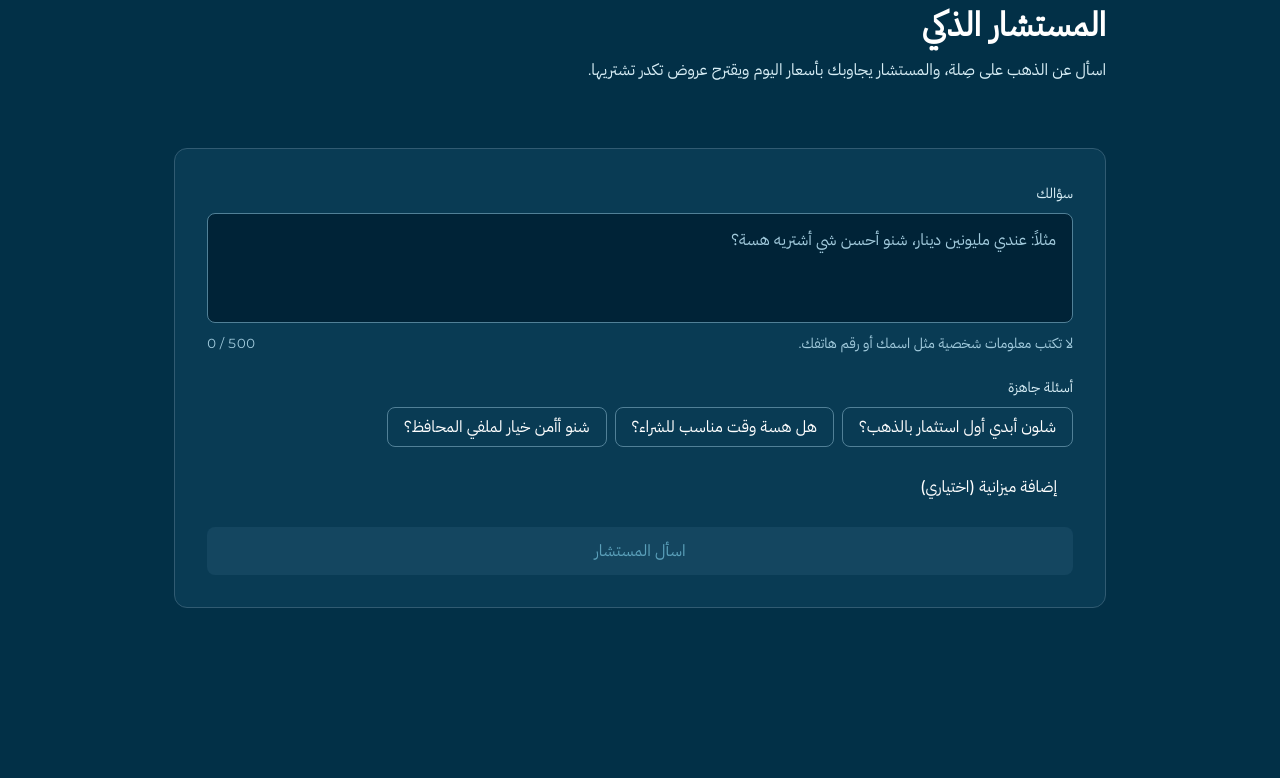
AdvisorPage › shows the unavailable state with the manual path
Type "شنو أشتري؟" into the text box labelled "سؤالك".
click(640, 268); type("شنو أشتري؟")  # box [207, 213, 1073, 323]
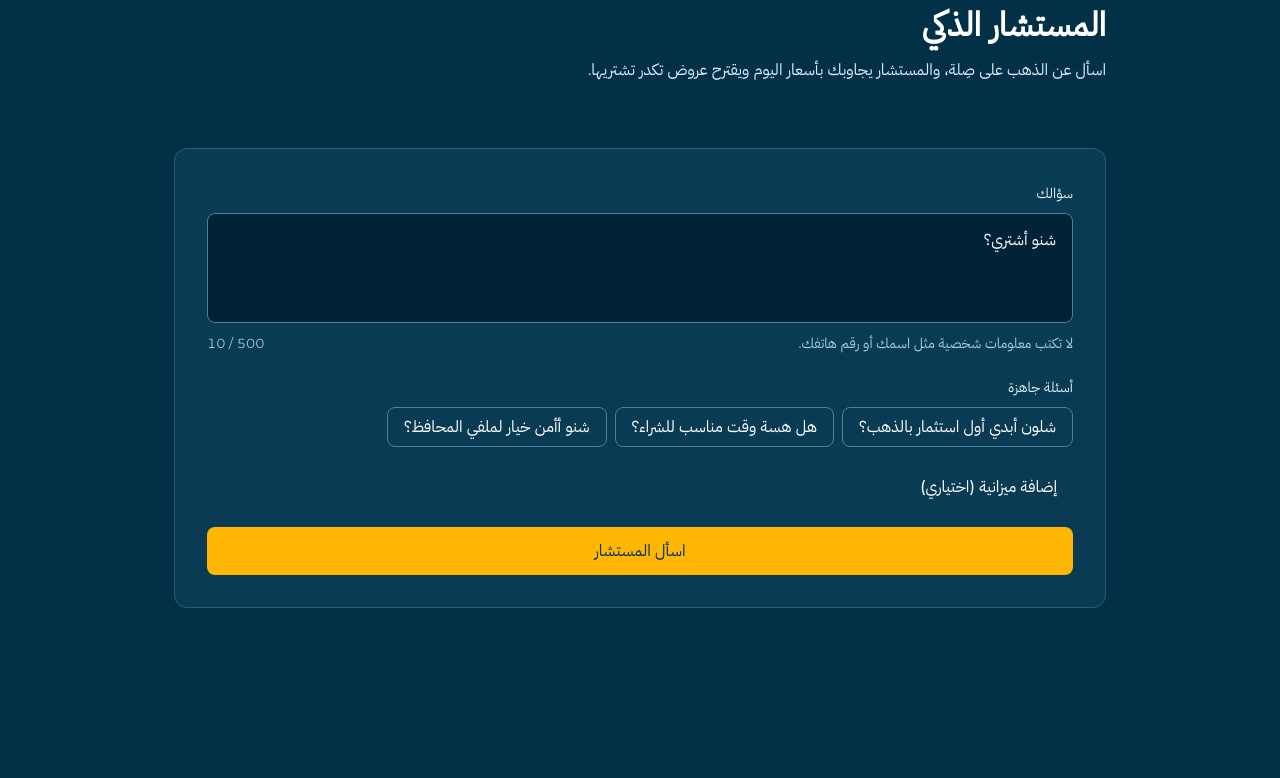
Click the button "اسأل المستشار".
click(640, 551)  # box [207, 527, 1073, 575]
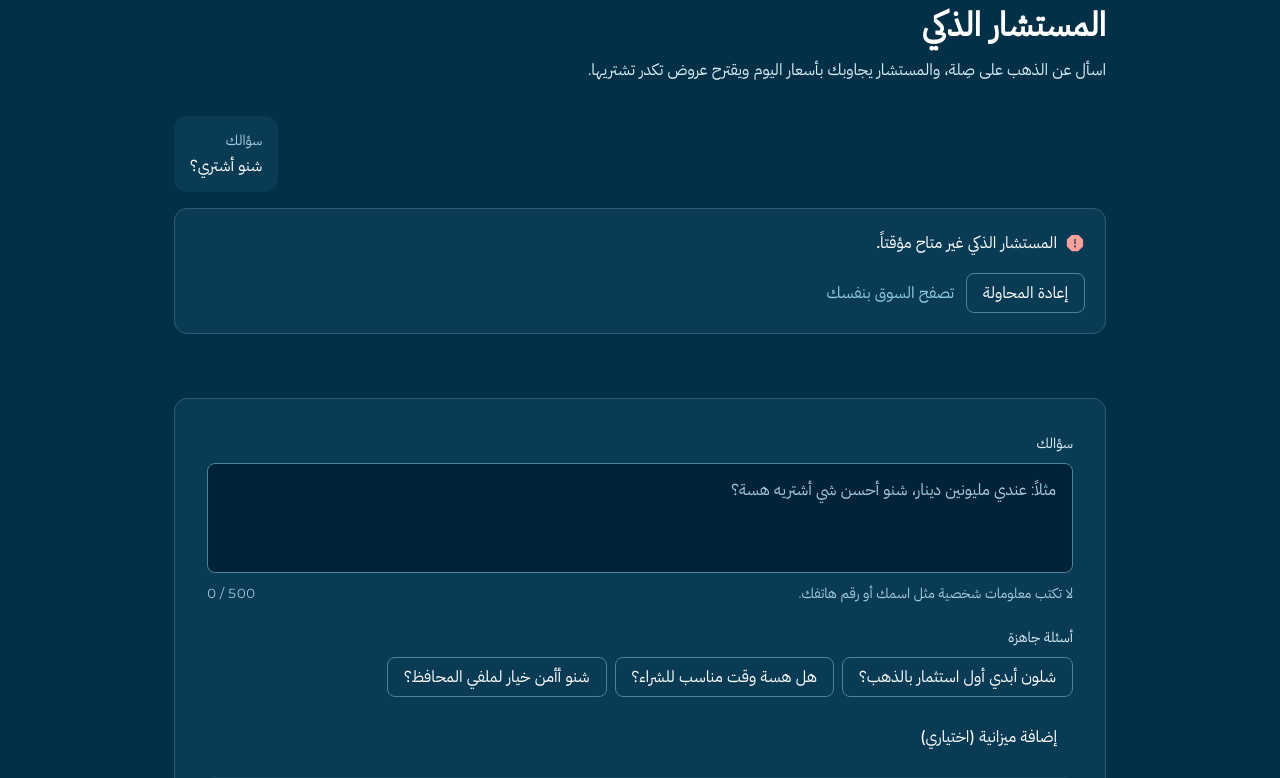
Now the message reads "المستشار الذكي غير متاح مؤقتاً.", box [876, 233, 1057, 252]
Now the link "تصفح السوق بنفسك" is shown, box [826, 279, 954, 307]
